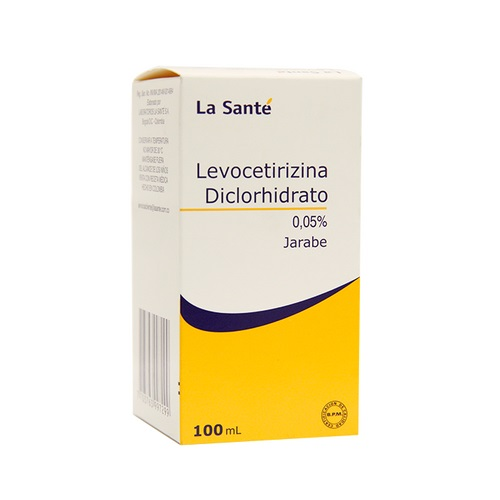LaSante: (181, 76, 358, 444)
